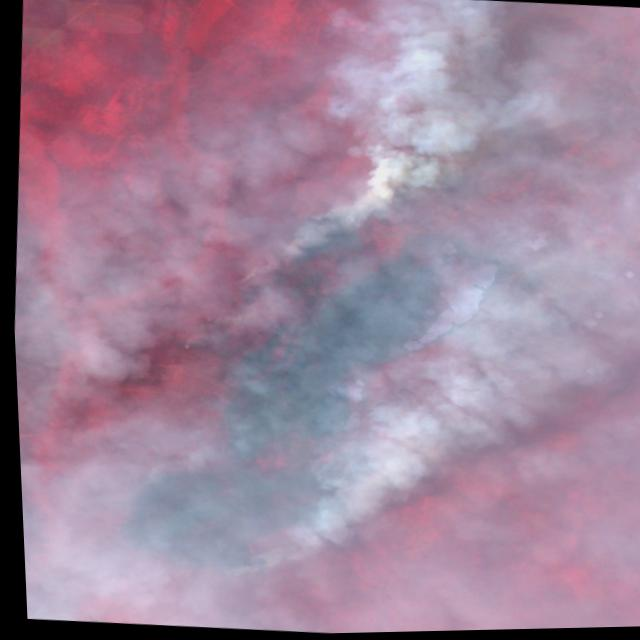fire: (102, 420, 388, 593), (172, 183, 396, 370), (451, 253, 560, 354)
